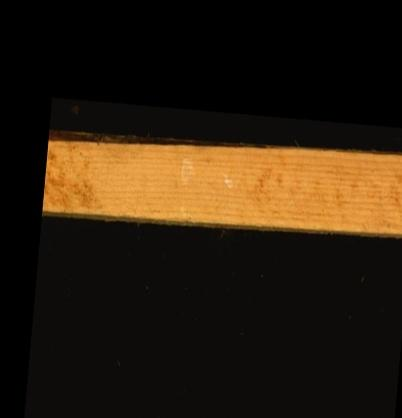wave: (47, 132, 260, 152)
